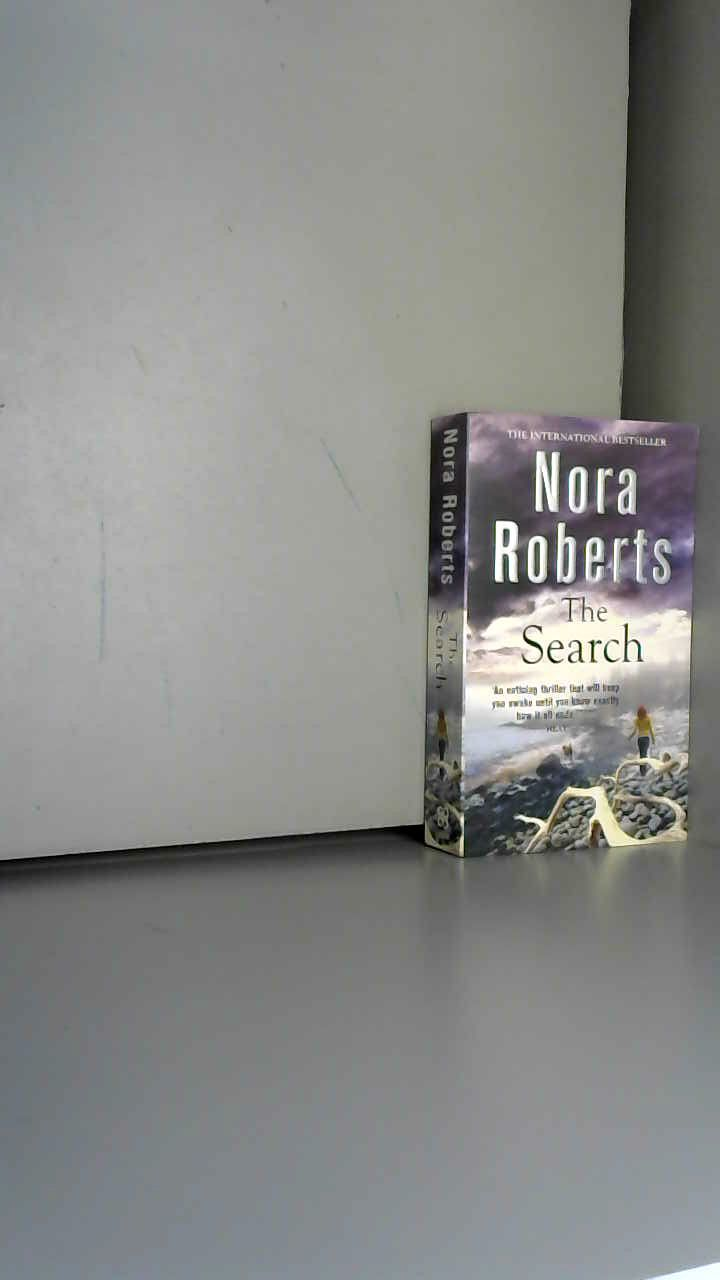book: (400, 380, 720, 886)
